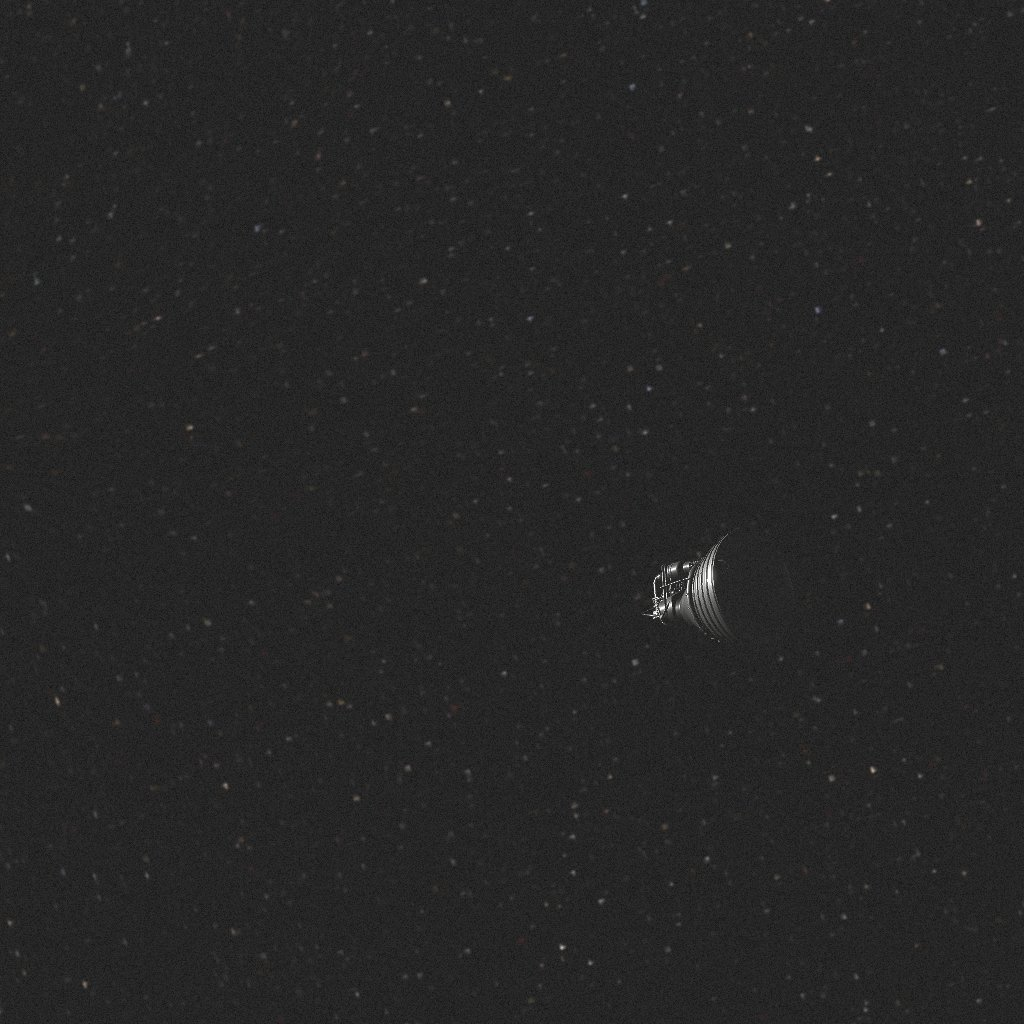debris: (641, 529, 798, 651)
